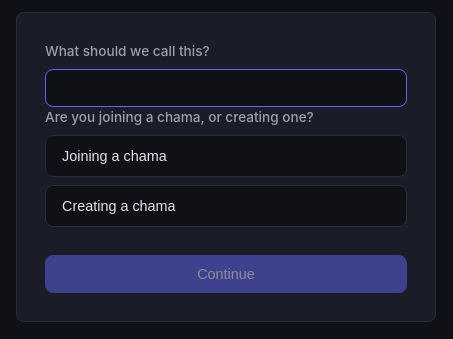
Test: NamingScreen › preselects nothing and keeps continue disabled until a kind is chosen
Expected: the button with test id "naming-submit" is disabled, [45,254,407,292]
Click the radio button with test id "kind-option-user" at (114, 156), box [45,134,407,176]
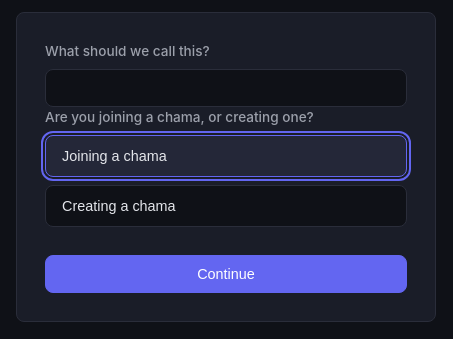
Result: the button with test id "naming-submit" is enabled at [45,254,407,292]
